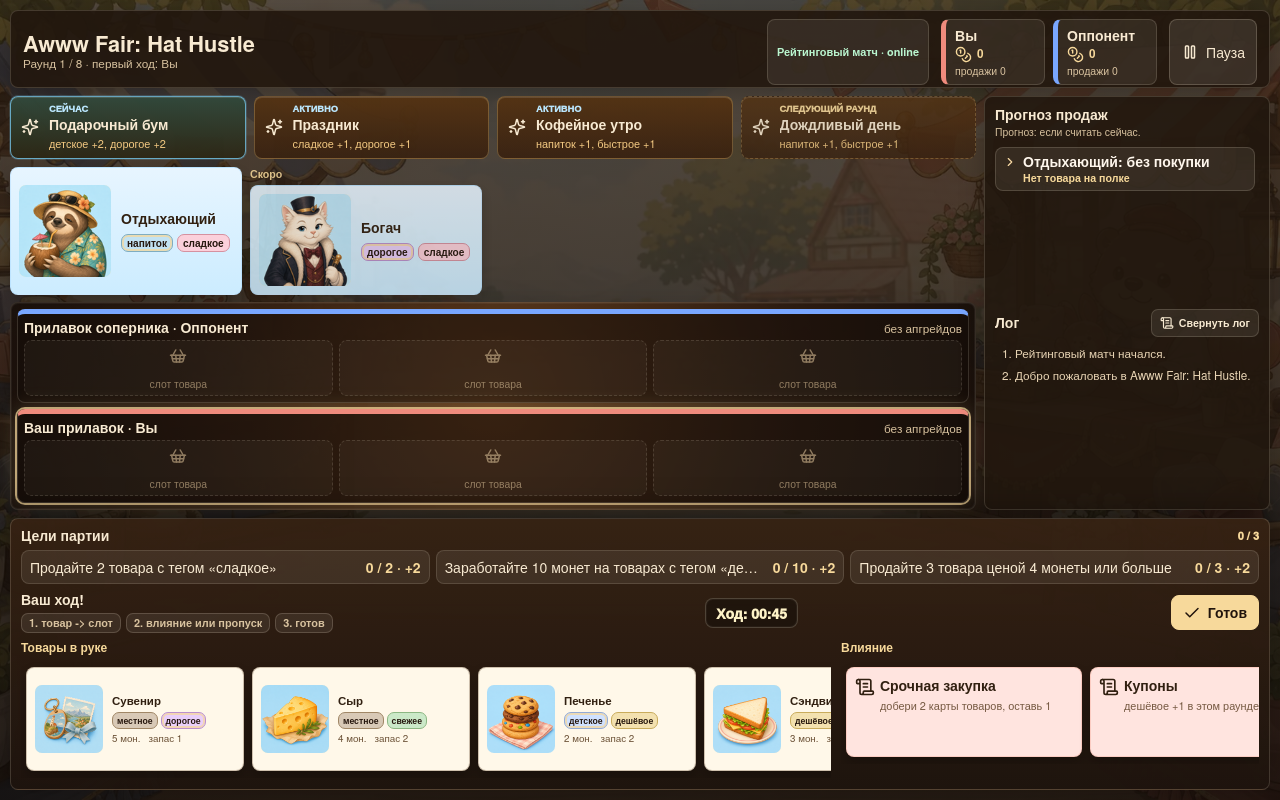
Test: App layout shell › keeps a ranked match open when surrender cannot be recorded
This screenshot has width=1280, height=800.
Step 1. Click the button with class "top-pause" → [1213, 52], box [1169, 19, 1257, 85]
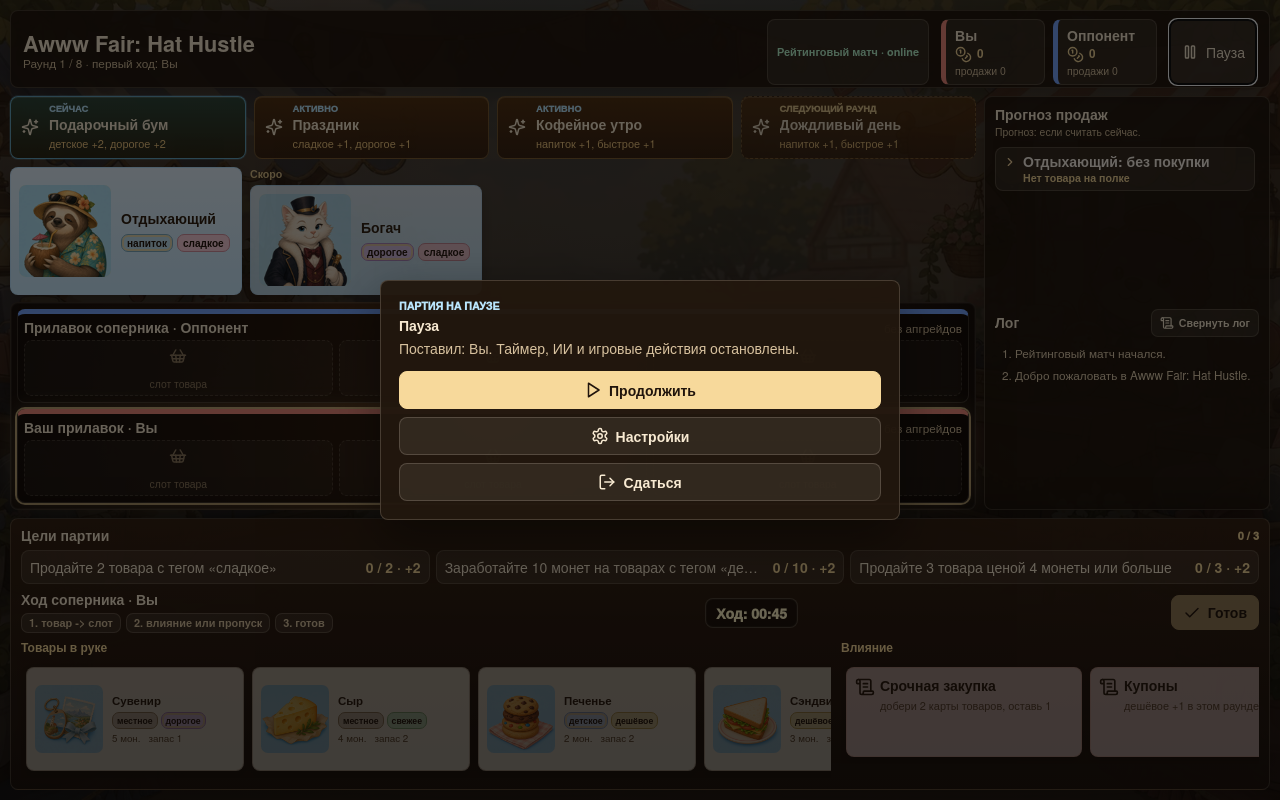
Step 2. Click the button "Сдаться" → [640, 482], box [399, 464, 881, 502]
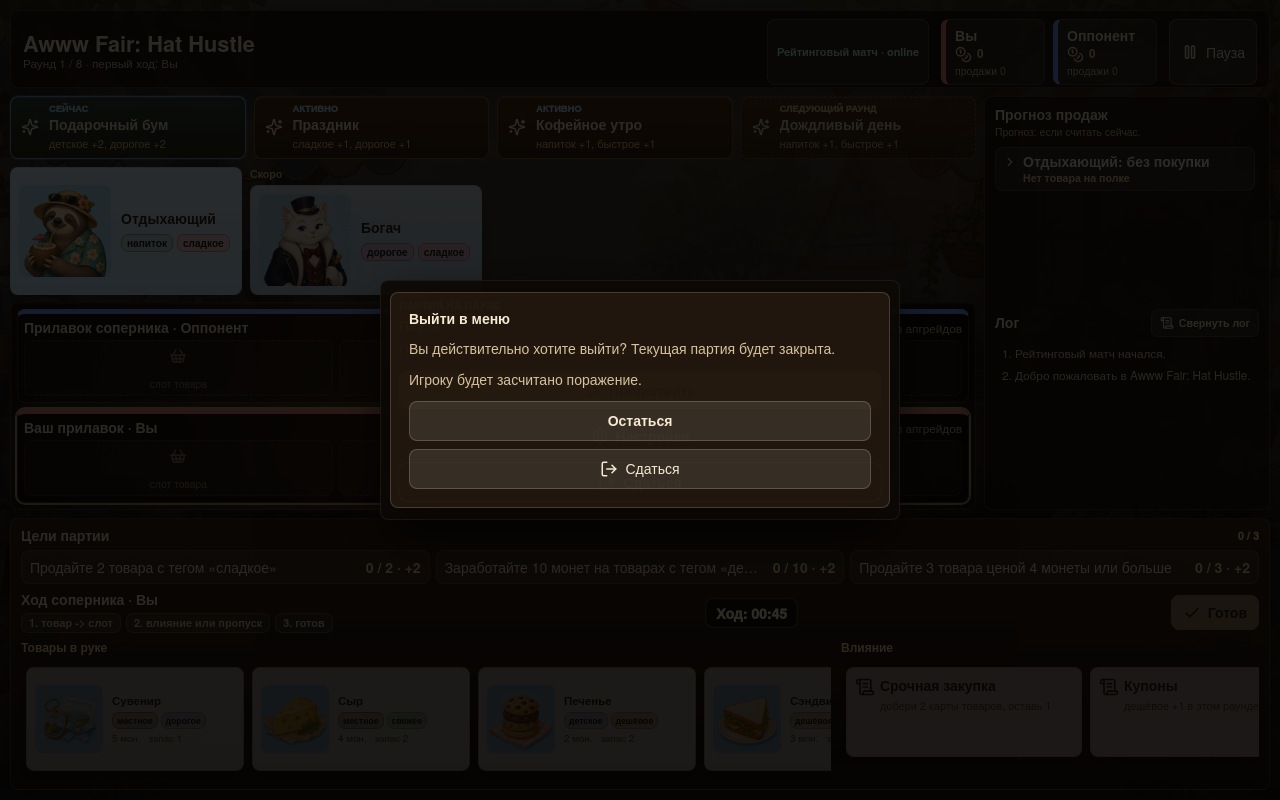
Step 3. Click the button "Сдаться" → [640, 469], box [409, 449, 871, 489]
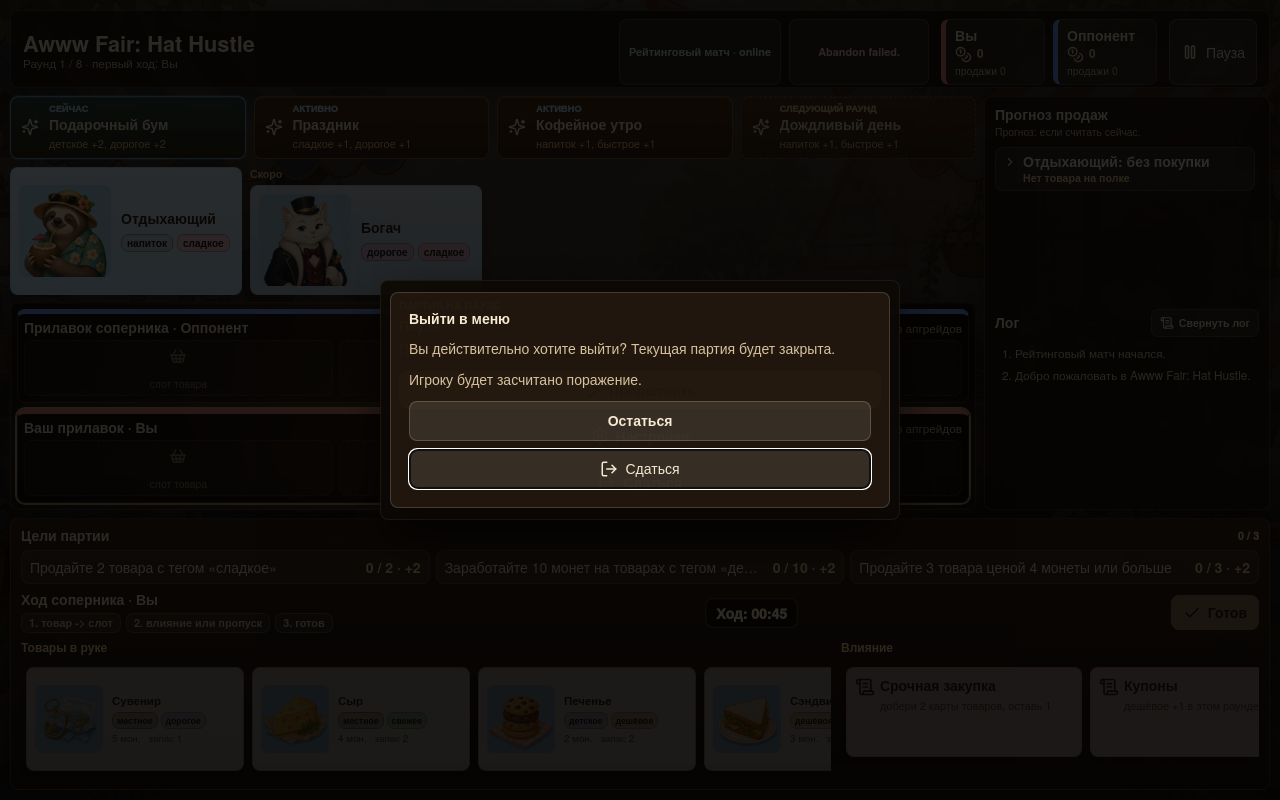
Now the text "Abandon failed." is shown, box [789, 19, 929, 85]
